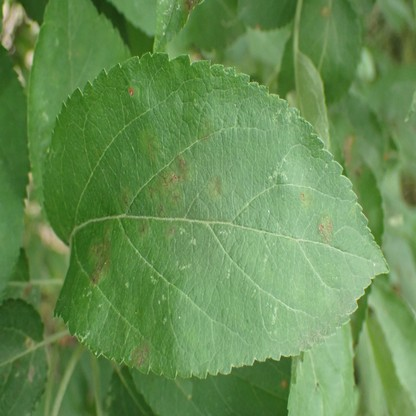frogeye_leaf_spot: (129, 88, 134, 96)
powdery_mildew: (299, 299, 350, 345)
scab: (148, 156, 193, 219), (89, 219, 112, 284), (141, 127, 160, 166), (196, 120, 213, 151), (132, 338, 149, 365), (209, 173, 223, 203), (319, 214, 334, 242), (134, 218, 151, 241), (117, 188, 132, 212), (183, 0, 203, 17), (298, 187, 313, 209), (166, 219, 176, 237)
